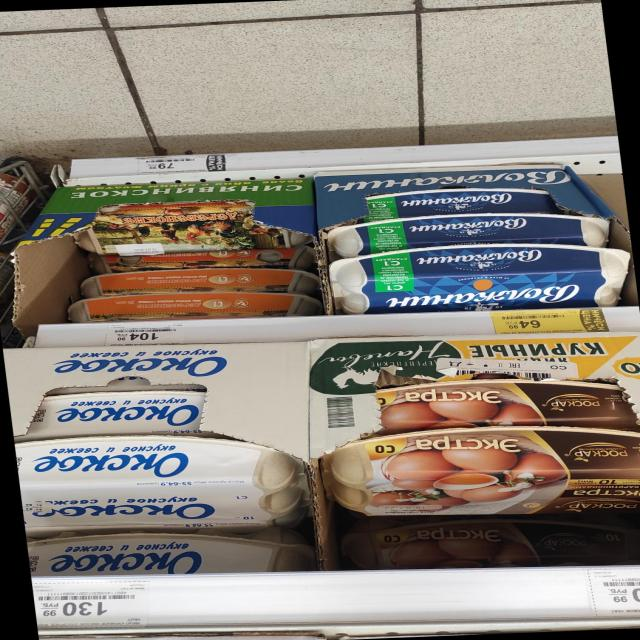organic waste: (318, 418, 640, 526), (15, 429, 303, 533), (336, 509, 640, 571), (26, 522, 312, 583), (375, 373, 639, 438), (27, 386, 209, 439)
